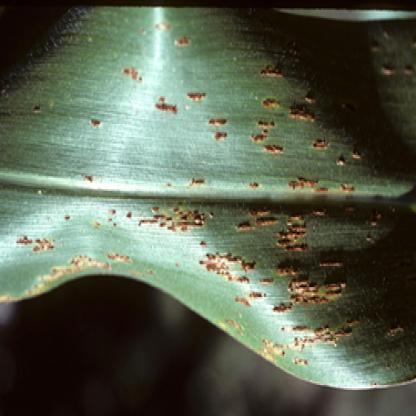corn rust leaf: (1, 2, 415, 401)
